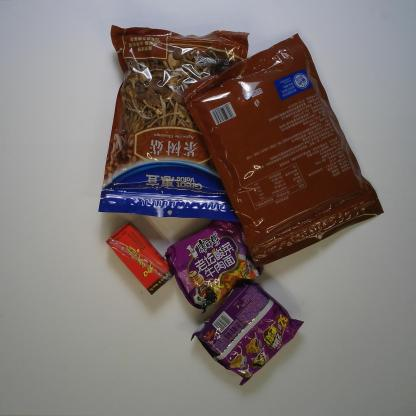Dried Food: (179, 30, 386, 267), (96, 22, 250, 226)
Drink: (105, 220, 176, 296)
Instant Noodles: (189, 280, 304, 387), (162, 218, 266, 314)
